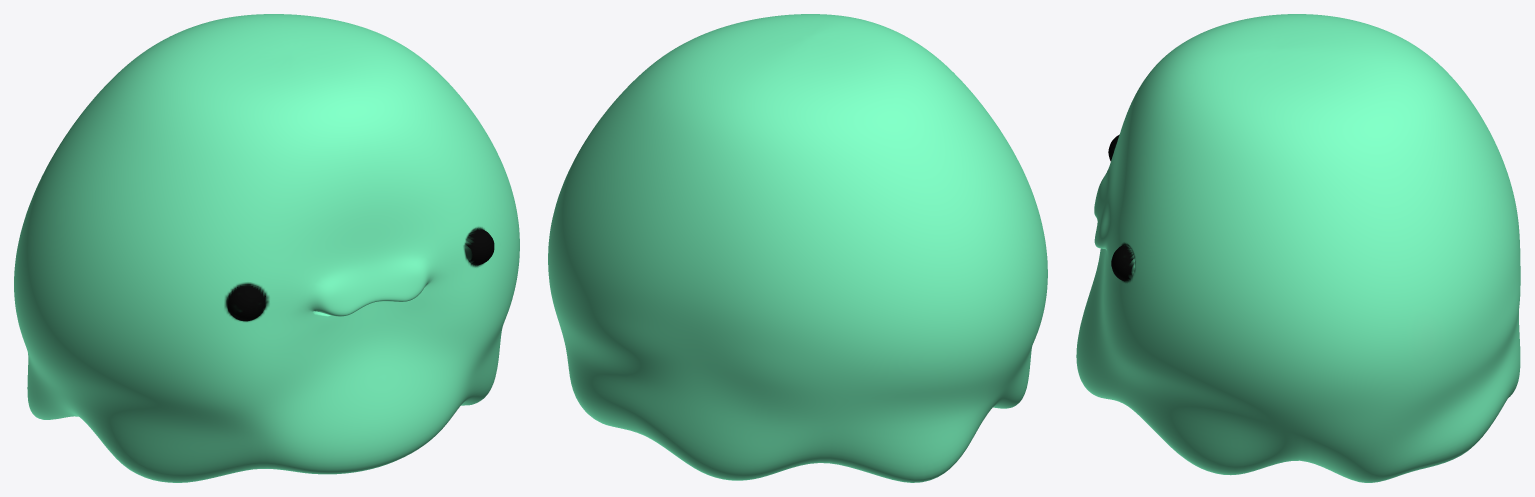
The model's file is Slime_New_polycount.fbx.
3 views of the same model, side by side, from view 1: azimuth 30°, elevation 25°; view 2: azimuth 150°, elevation 25°; view 3: azimuth 270°, elevation 25° (orthographic). The views are drawn at different scales.
Parts seen in each view (by area): view 1: pSphere4; view 2: pSphere4; view 3: pSphere4.
Part boxes in pixels (box(x1,y1,x2,y2)): pSphere4: box(14, 14, 519, 482); pSphere4: box(548, 14, 1047, 482); pSphere4: box(1076, 14, 1520, 482).
Bounding box in the file's own units: 417 × 318 × 359.
1 material, 1 textured.
